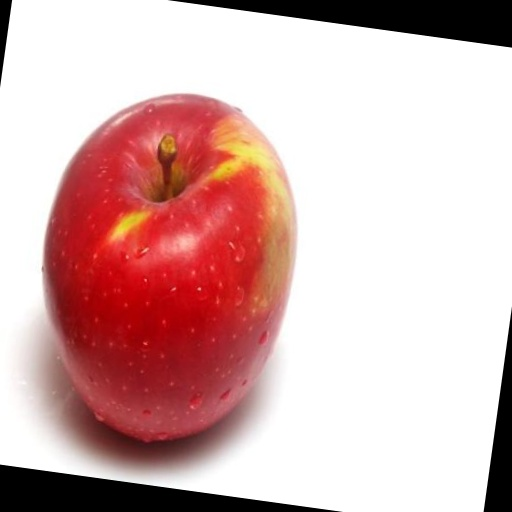fruit: (43, 95, 296, 440)
